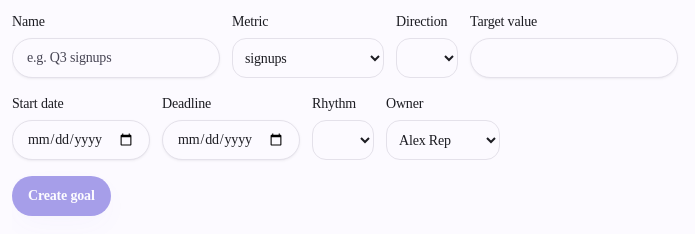
Test case: CreateGoalForm › disables the submit button until the required maximize fields are filled
Check: the button "Create goal" is disabled, box [12, 176, 111, 216]
Step 1. Type "Q3 signups" into the field labelled "Name" → [116, 58], box [12, 38, 220, 78]
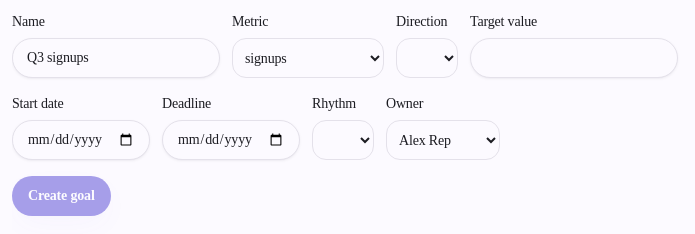
Step 2. Type "1000" into the number field labelled "Target value" → [574, 58], box [470, 38, 678, 78]
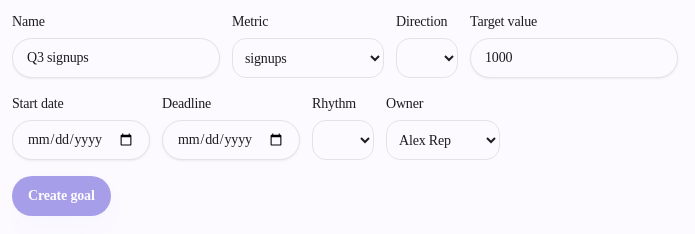
Step 3. Type "2026-07-01" into the date field labelled "Start date" → [81, 140], box [12, 120, 150, 160]
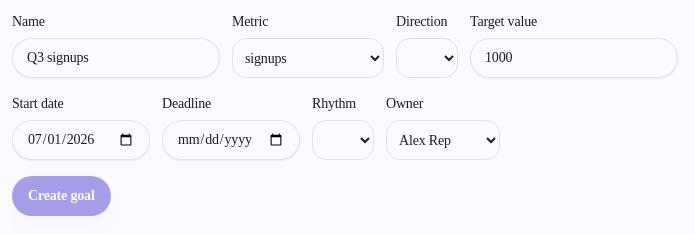
Step 4. Type "2026-09-30" into the date field labelled "Deadline" → [231, 140], box [162, 120, 300, 160]
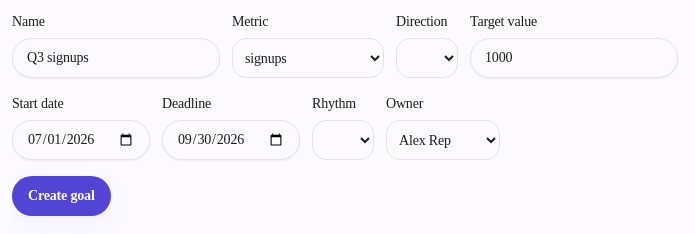
Check: the button "Create goal" is enabled, box [12, 176, 111, 216]
